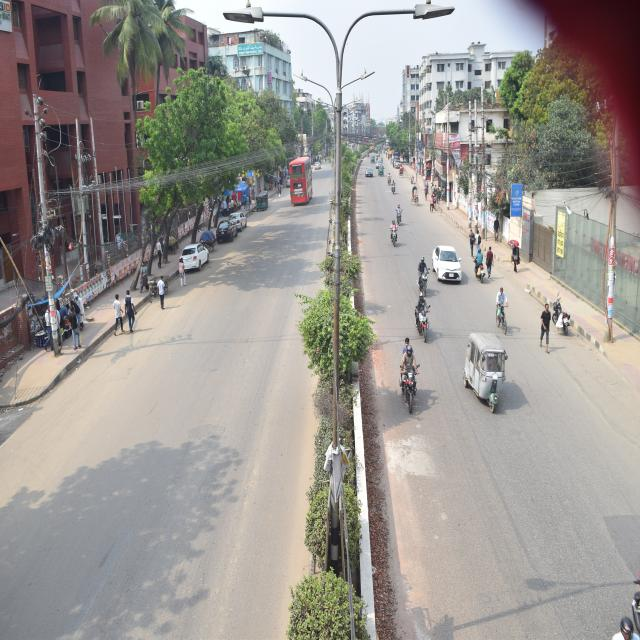bus: (283, 150, 320, 218)
car: (430, 238, 464, 290), (178, 240, 212, 270), (226, 204, 252, 237), (213, 219, 238, 249), (361, 163, 375, 181)
motorbike: (394, 333, 421, 411), (550, 286, 582, 348), (411, 291, 432, 346), (466, 246, 489, 286), (414, 252, 430, 295), (379, 218, 400, 248), (389, 200, 406, 227), (390, 184, 398, 193)
